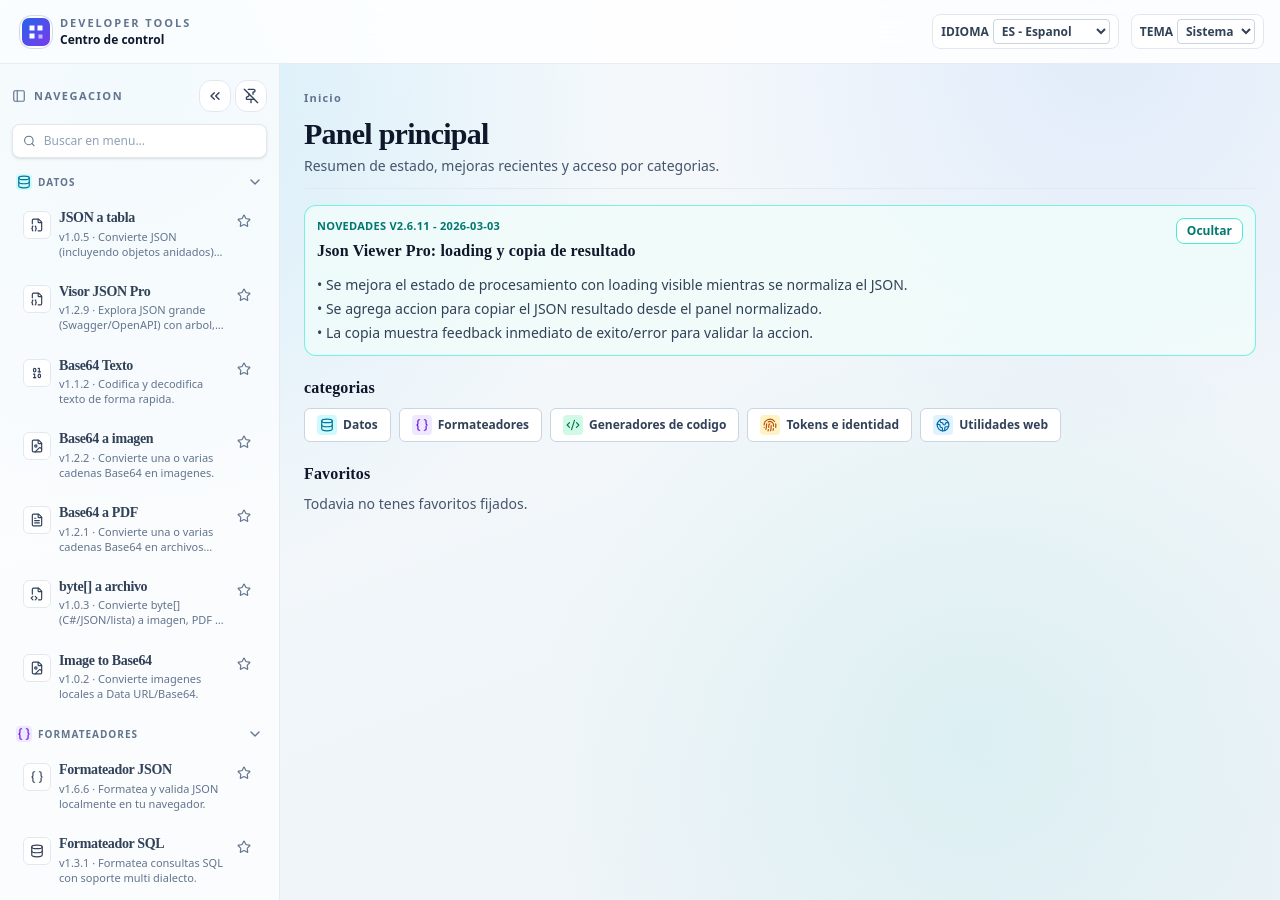
Test case: ToolList › filtra herramientas por termino de busqueda
The image size is (1280, 900).
Step 1. Type "zzznothing" into the field with placeholder "Buscar en menu..." → (150, 141), box [44,133,256,149]
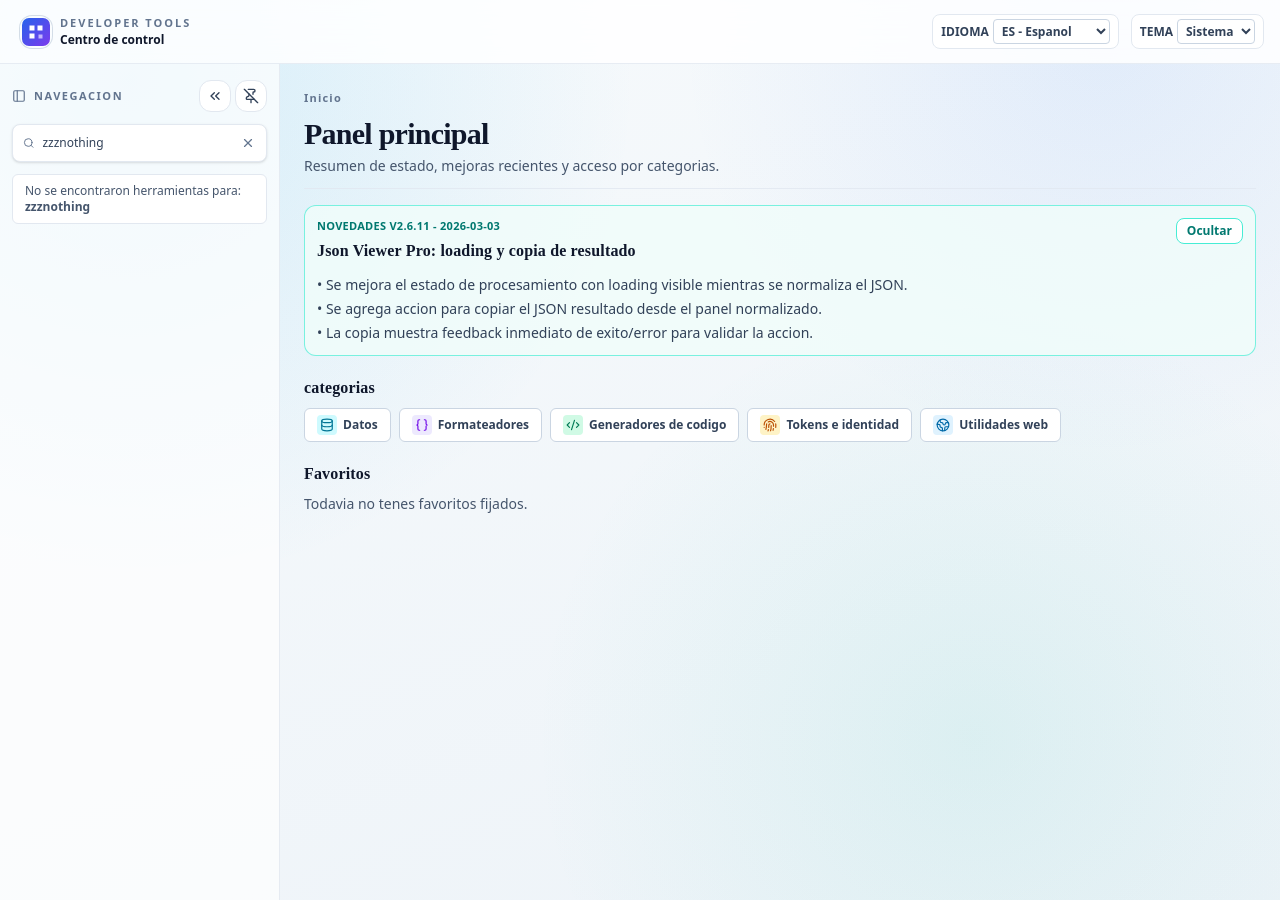
Check: the text "No se encontraron herramientas para: zzznothing" is shown, box [12,174,267,224]
Check: the text "zzznothing" is shown, box [25,198,90,215]
